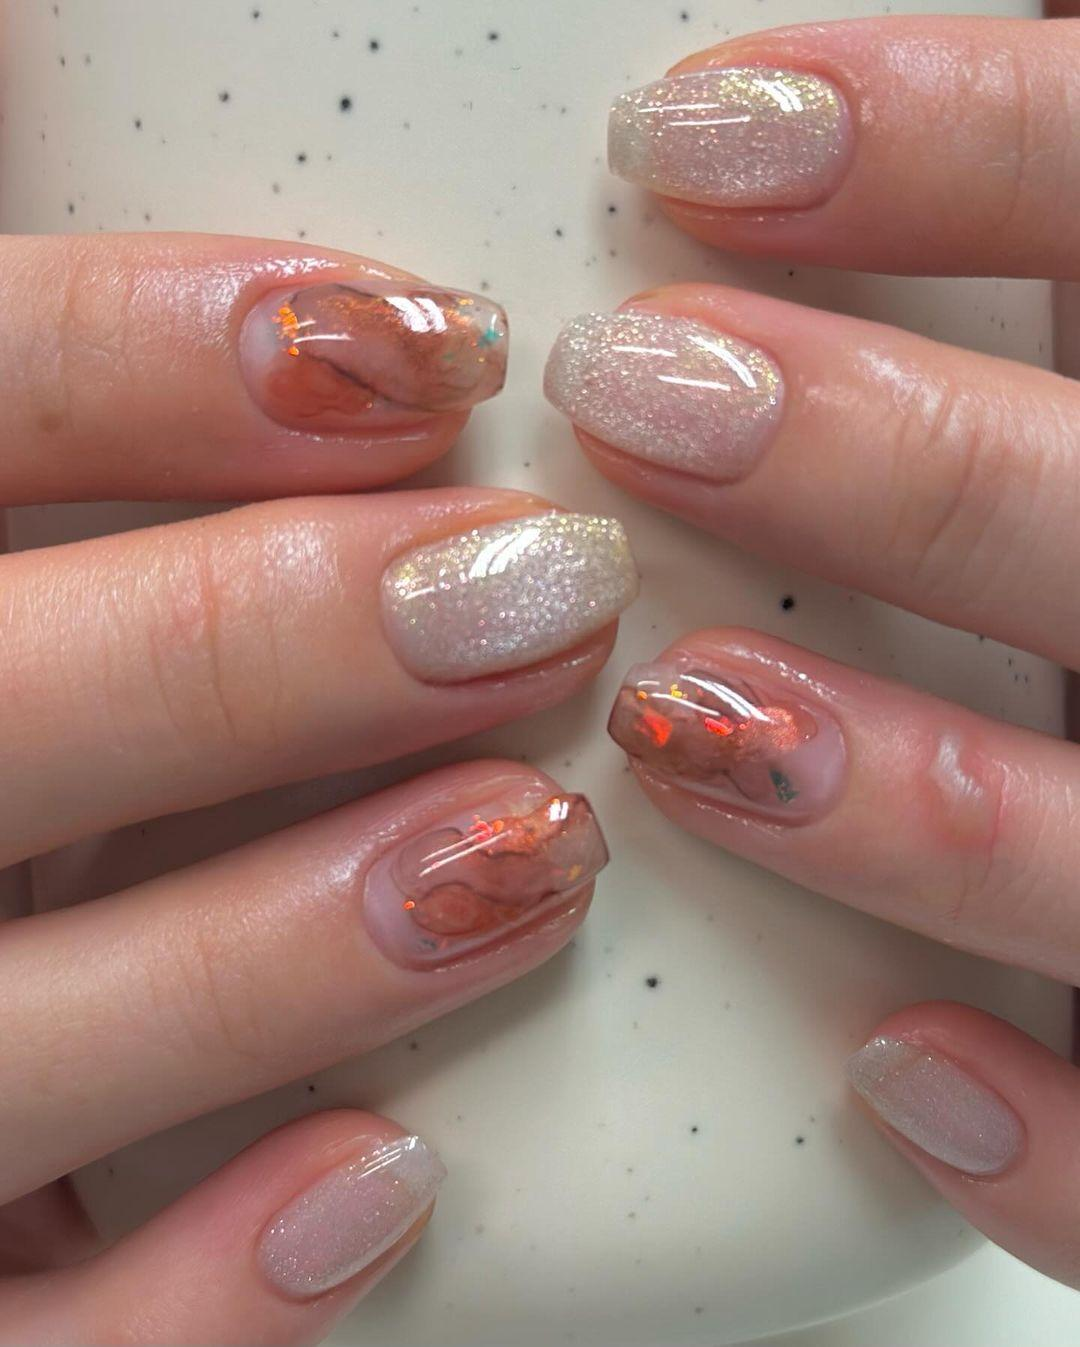nail: (376, 508, 639, 686), (360, 789, 609, 973), (541, 308, 786, 484), (236, 276, 509, 432), (606, 653, 847, 828), (605, 61, 856, 212), (252, 1130, 445, 1303), (845, 1033, 1027, 1179)
